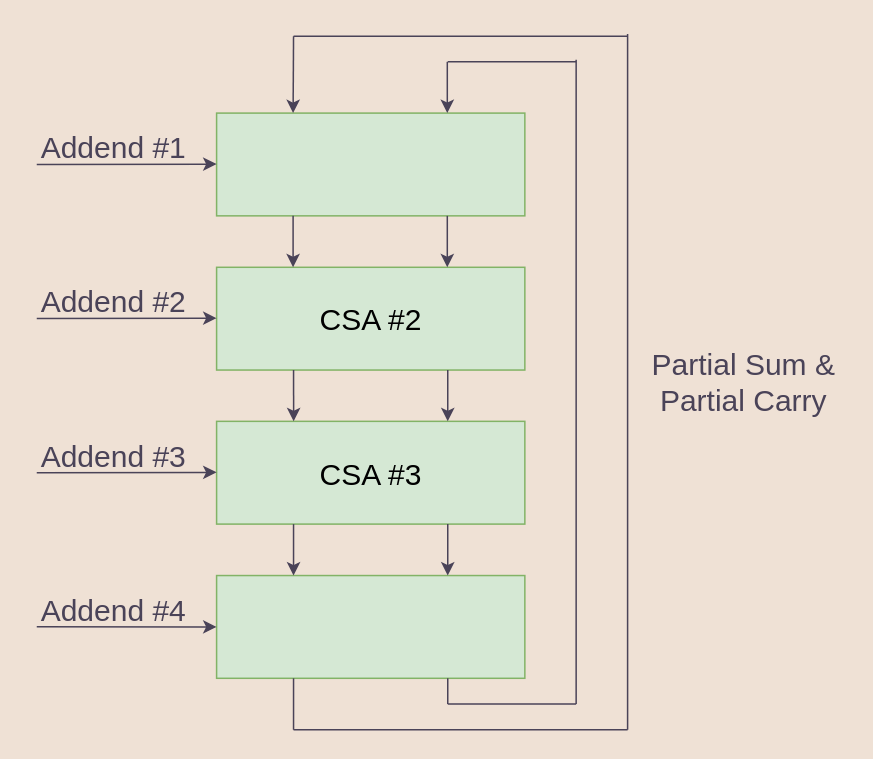
The diagram is 873 pixels wide and 759 high, and some of its shapes have lost their labels. Each missing label, with the centre of its shape:
"CSA #1" goes at point (370, 164).
"CSA #4" goes at point (370, 626).
